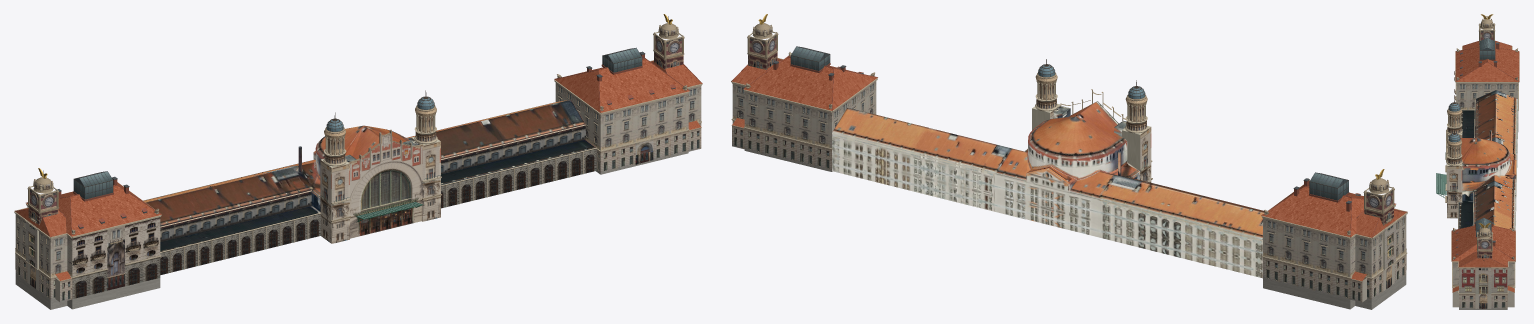
The model's file is fantova.glb.
3 renders of one model, left to right at view 1: azimuth 30°, elevation 25°; view 2: azimuth 150°, elevation 25°; view 3: azimuth 270°, elevation 25°, orthographic. The views are drawn at different scales.
Parts seen in each view (by area): view 1: Fantova budova; view 2: Fantova budova; view 3: Fantova budova.
Part boxes in pixels (x1,y1,x2,y2): Fantova budova: (14,14,702,309); Fantova budova: (731,14,1407,309); Fantova budova: (1436,14,1519,309).
Size of the model in its own units: 219 by 43.27 by 34.95.
Materials: 1 (1 with a texture image).
